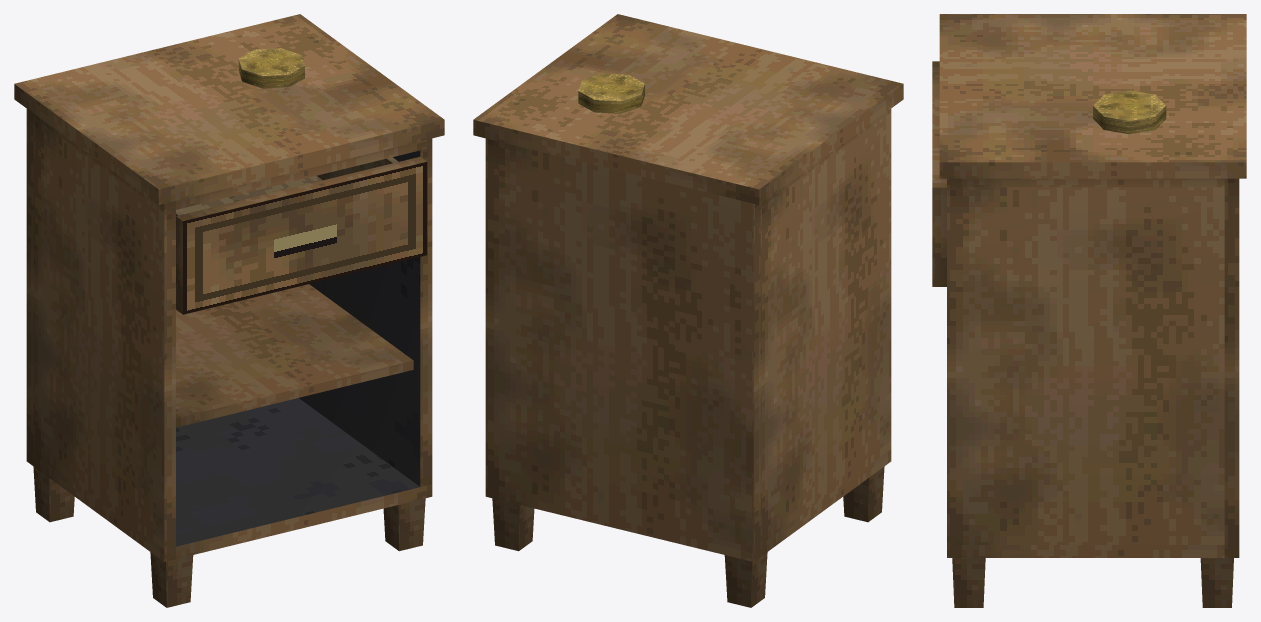
File: nightstand_oak.glb
3 views of the same model, side by side, from view 1: azimuth 30°, elevation 25°; view 2: azimuth 150°, elevation 25°; view 3: azimuth 270°, elevation 25° (orthographic). The views are drawn at different scales.
Visible parts, largest first — view 1: nightstand_oak, nightstand_oak_drawer; view 2: nightstand_oak; view 3: nightstand_oak, nightstand_oak_drawer.
Part boxes in pixels (x1,y1,x2,y2): nightstand_oak: [14, 14, 444, 607]; nightstand_oak_drawer: [176, 156, 427, 314]; nightstand_oak: [473, 14, 903, 607]; nightstand_oak: [939, 14, 1246, 607]; nightstand_oak_drawer: [932, 61, 946, 286].
Bounding box in the file's own units: 0.48 × 0.705 × 0.43.
2 materials, 2 textured.
